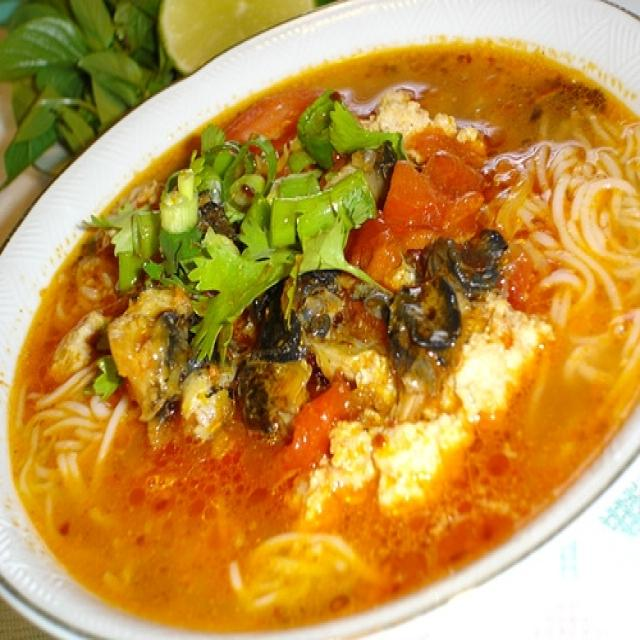面条主食: (15, 21, 621, 614)
